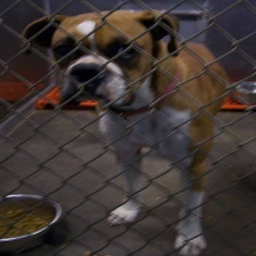dog: (21, 6, 228, 256)
